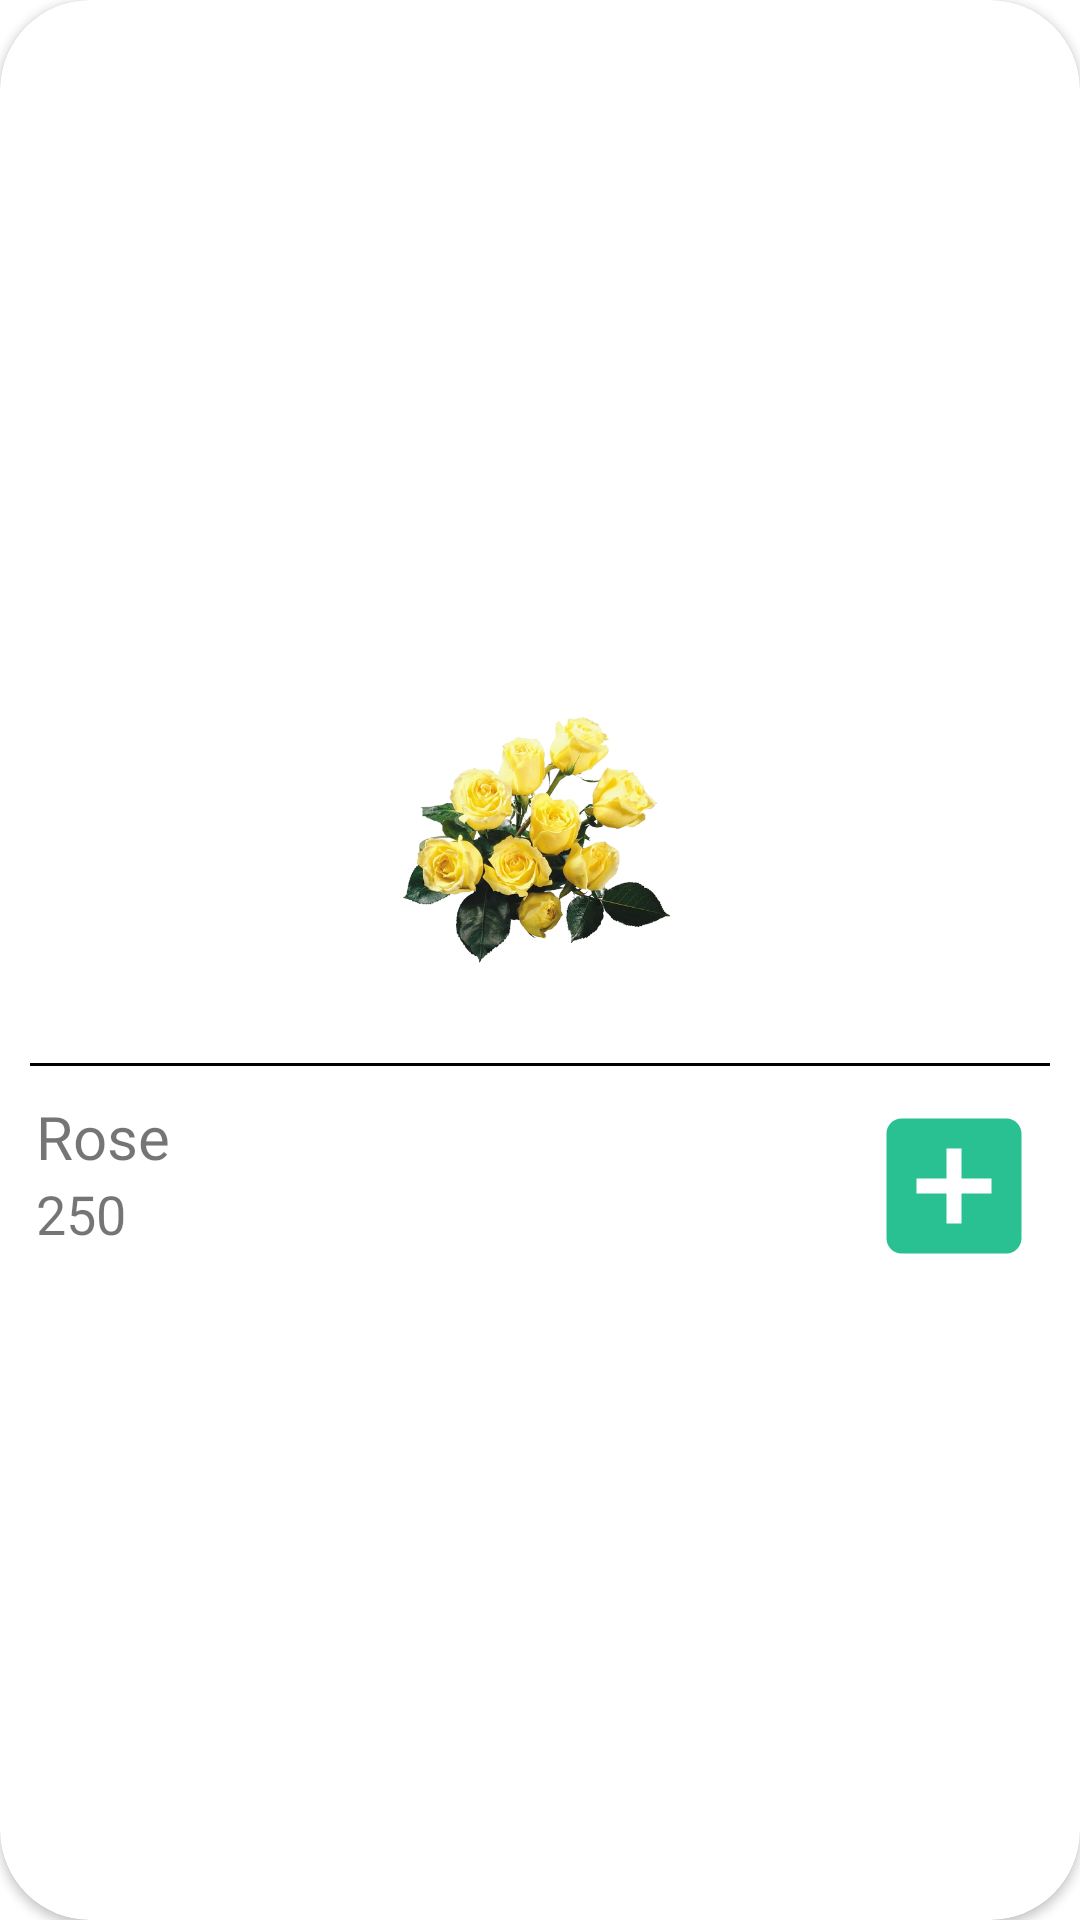

Icons on this 1080x1920 Android screen, each with the point to tap as [x,y]:
add: [954,1186]
item flower: [536,840]
